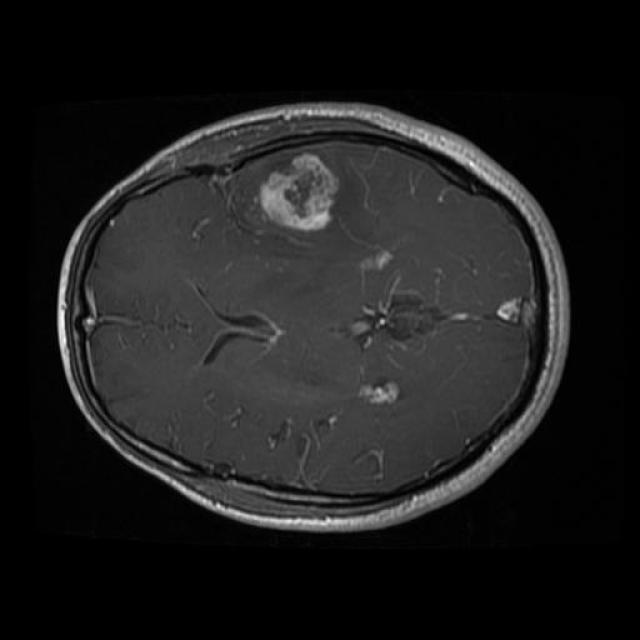Glioma: (260, 153, 338, 232)
